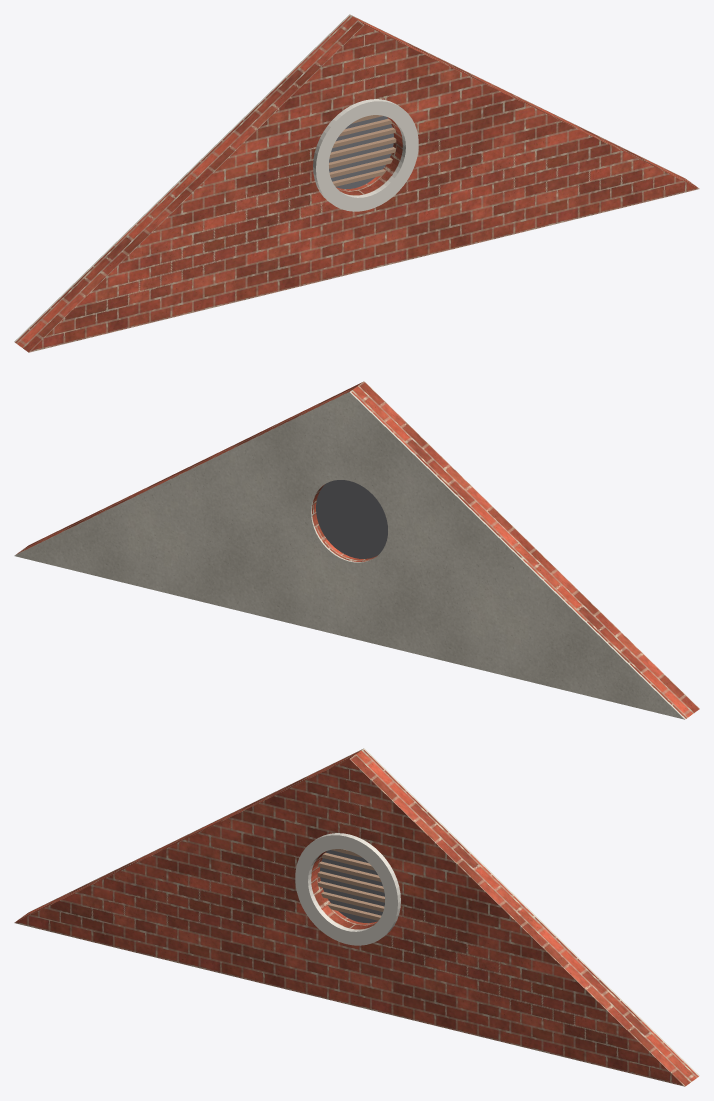
The model's file is gable_vent.glb.
3 renders of one model, top to bottom at view 1: azimuth 30°, elevation 25°; view 2: azimuth 150°, elevation 25°; view 3: azimuth 330°, elevation 25°, orthographic.
Parts seen in each view (by area): view 1: gable_vent_brick, gable_vent_lime, gable_vent_wood, gable_vent_dark, gable_vent_plaster; view 2: gable_vent_plaster, gable_vent_brick, gable_vent_dark; view 3: gable_vent_brick, gable_vent_lime, gable_vent_wood, gable_vent_dark, gable_vent_plaster.
Part boxes in pixels (x1,y1,x2,y2): gable_vent_brick: (15,15,699,352); gable_vent_lime: (313,99,418,211); gable_vent_wood: (329,115,396,186); gable_vent_dark: (329,116,393,189); gable_vent_plaster: (14,14,677,342); gable_vent_plaster: (14,391,685,719); gable_vent_brick: (16,381,699,718); gable_vent_dark: (316,480,387,558); gable_vent_brick: (14,749,698,1086); gable_vent_lime: (295,833,400,945); gable_vent_wood: (317,849,384,920); gable_vent_dark: (320,850,384,923); gable_vent_plaster: (36,748,699,1076).
Bounding box in the file's own units: 7.83 × 2.74 × 0.36.
5 materials, 2 textured.
